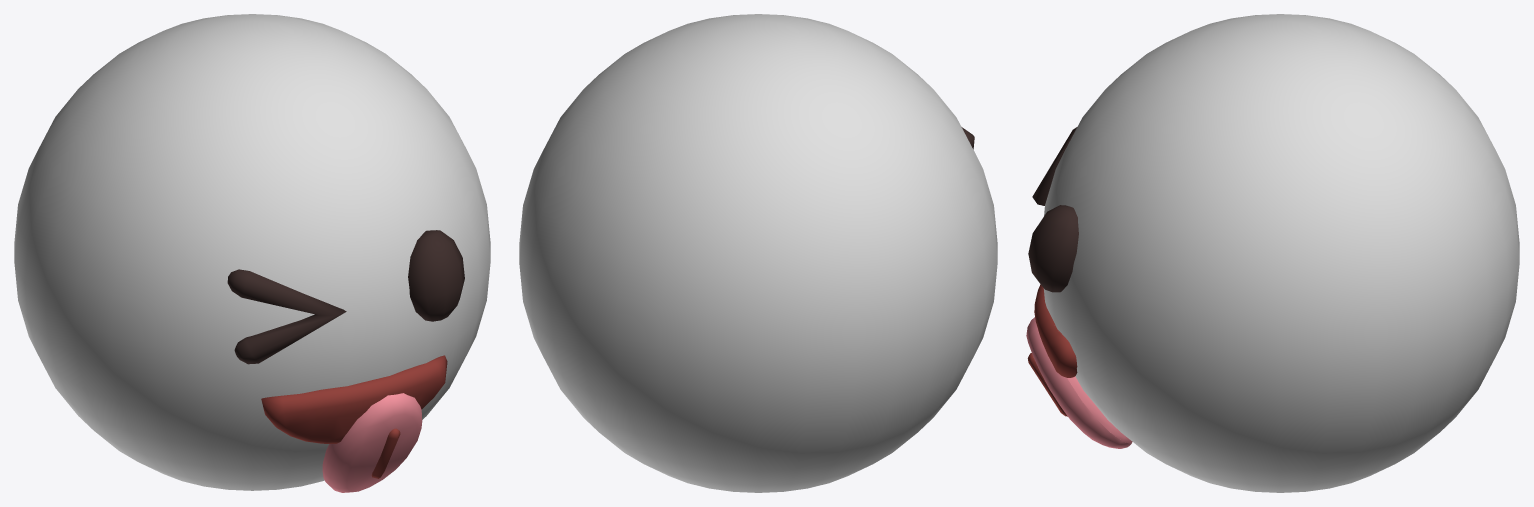
Rendered from face_zany.glb.
The picture shows the model from 3 angles, left to right: view 1: azimuth 30°, elevation 25°; view 2: azimuth 150°, elevation 25°; view 3: azimuth 270°, elevation 25°; orthographic projection.
Parts seen in each view (by area): view 1: face_zany; view 2: face_zany; view 3: face_zany.
Boxes of the visible parts, x1,y1,x2,y2 form: face_zany: [14, 14, 490, 492]; face_zany: [519, 14, 997, 492]; face_zany: [1026, 14, 1519, 492].
Bounding box in the file's own units: 1 × 1 × 1.03.
